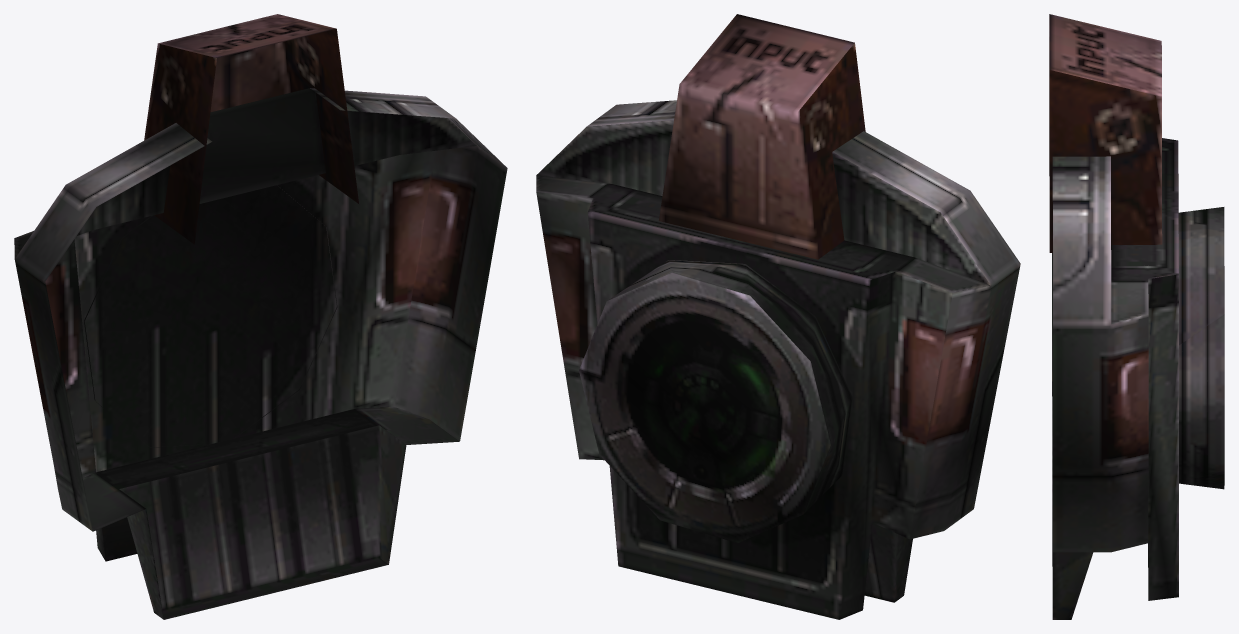
File: stamina.glb
3 renders of one model, left to right at view 1: azimuth 30°, elevation 25°; view 2: azimuth 150°, elevation 25°; view 3: azimuth 270°, elevation 25°, orthographic. The views are drawn at different scales.
Visible parts, largest first — view 1: Box02; view 2: Box02; view 3: Box02.
Boxes of the visible parts, left/top/right/bottom form: Box02: left=14, top=14, right=507, bottom=619; Box02: left=536, top=14, right=1020, bottom=619; Box02: left=1049, top=14, right=1224, bottom=619.
Size of the model in its own units: 5.63 by 6.39 by 1.93.
Materials: 1 (1 with a texture image).
